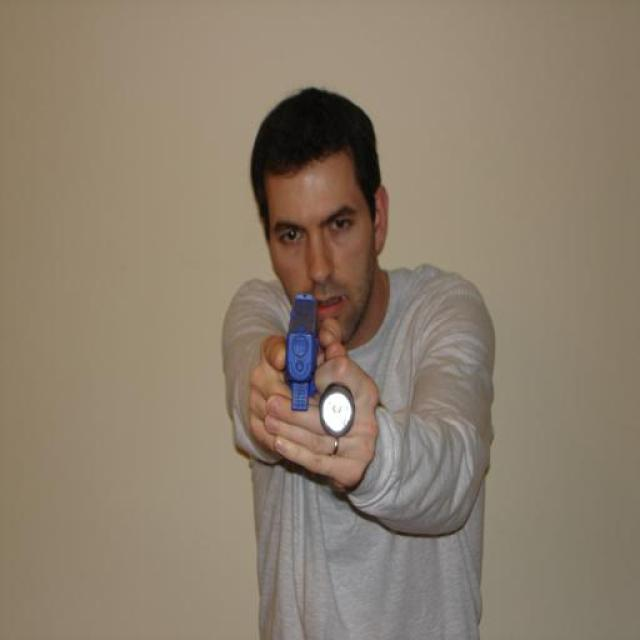pistol: (281, 288, 320, 413)
